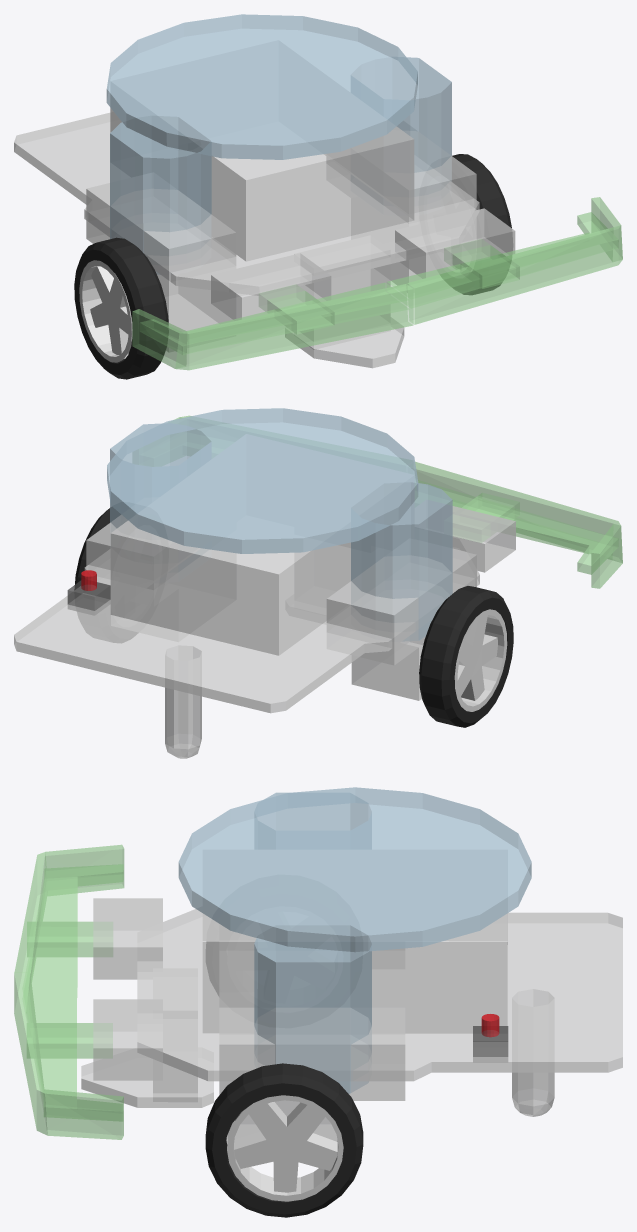
The model's file is pretyrobot.gltf.
3 renders of one model, top to bottom at view 1: azimuth 30°, elevation 25°; view 2: azimuth 150°, elevation 25°; view 3: azimuth 270°, elevation 25°, orthographic. The views are drawn at different scales.
Visible parts, largest first — view 1: Shape_IndexedFaceSet.002; view 2: Shape_IndexedFaceSet.002; view 3: Shape_IndexedFaceSet.002.
Part boxes in pixels (box(x1,y1,x2,y2)): Shape_IndexedFaceSet.002: box(14, 14, 622, 379); Shape_IndexedFaceSet.002: box(14, 408, 622, 758); Shape_IndexedFaceSet.002: box(14, 787, 622, 1217).
Bounding box in the file's own units: 0.1032 × 0.0479 × 0.1035.
